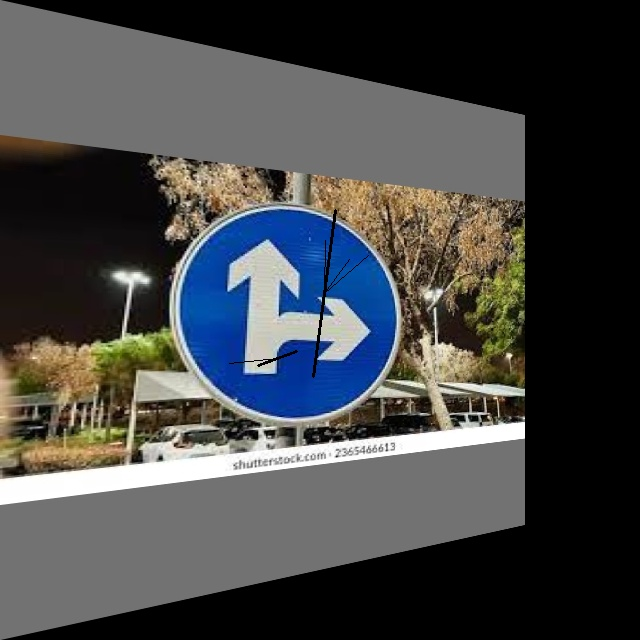Compulsory_Ahead_or_Turn_Right: (172, 192, 401, 432)
